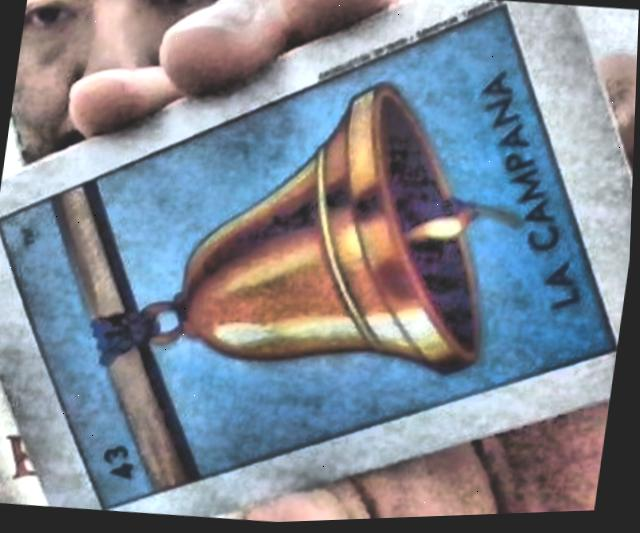La Campana: (2, 9, 616, 509)
